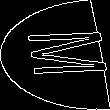M_E: (5, 29, 105, 81)
